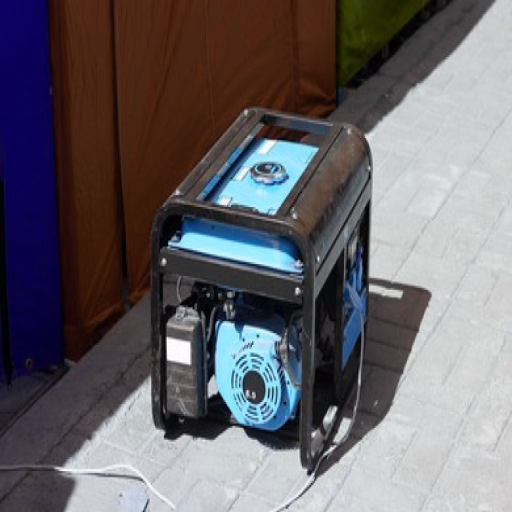portable_generator: (150, 105, 374, 473)
